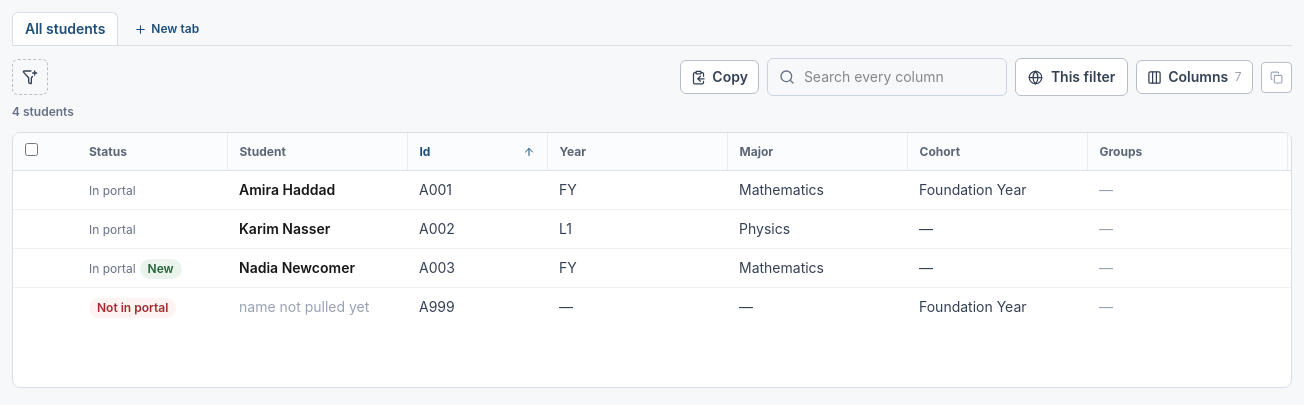
StudentRoster › searching › looks in every column on screen, not a chosen few
Expected: the text "Amira Haddad" is shown, [239,181,335,198]
Major is a column, so its values are searchable without naming the field.
Type "physics" into the search field named "Search students" at point(887, 77), box [767,58,1007,96]
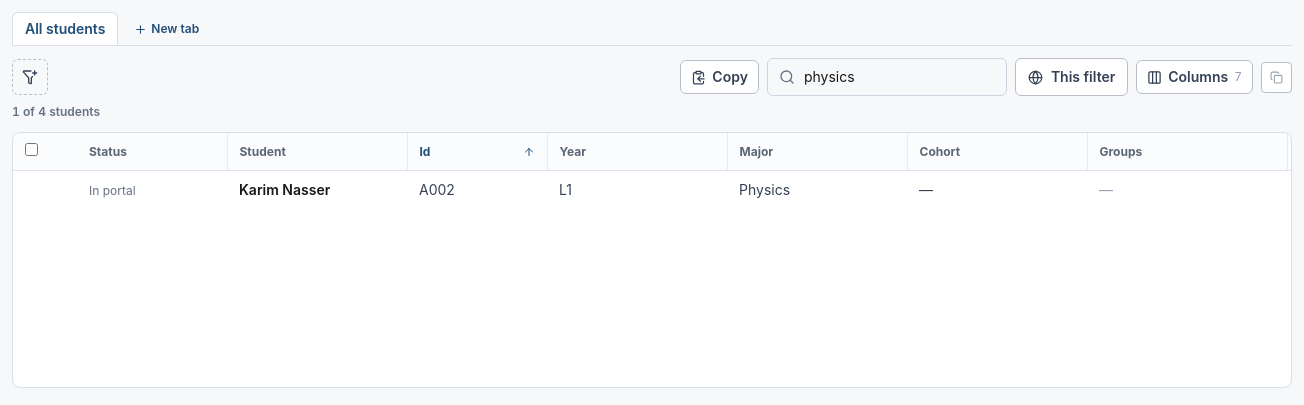
Expected: the text "Karim Nasser" is shown, [239,181,330,198]
Now the text "Amira Haddad" is gone
